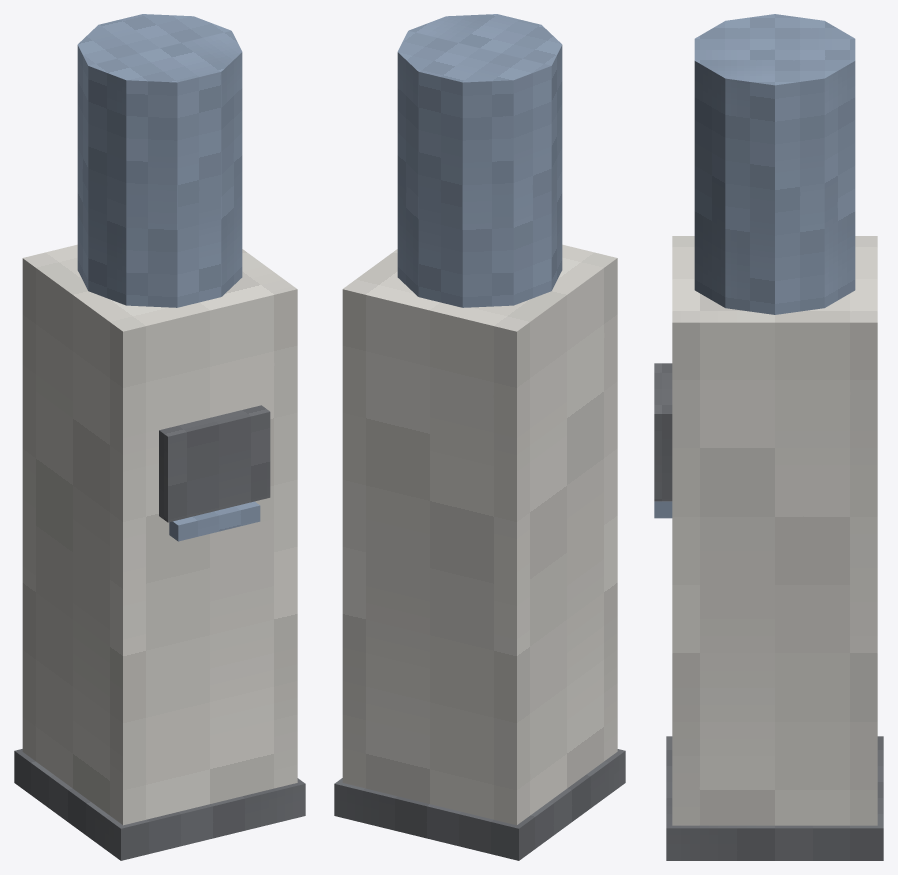
File: pixel-modern-office-water-cooler-33f143d4.glb
3 views of the same model, side by side, from view 1: azimuth 30°, elevation 25°; view 2: azimuth 150°, elevation 25°; view 3: azimuth 270°, elevation 25° (orthographic).
Visible parts, largest first — view 1: water-cooler; view 2: water-cooler; view 3: water-cooler.
Part boxes in pixels (x1,y1,x2,y2): water-cooler: (14,14,305,860); water-cooler: (334,14,625,860); water-cooler: (654,14,883,860).
Bounding box in the file's own units: 0.36 × 1.4 × 0.38.
Materials: 3 (3 with a texture image).
